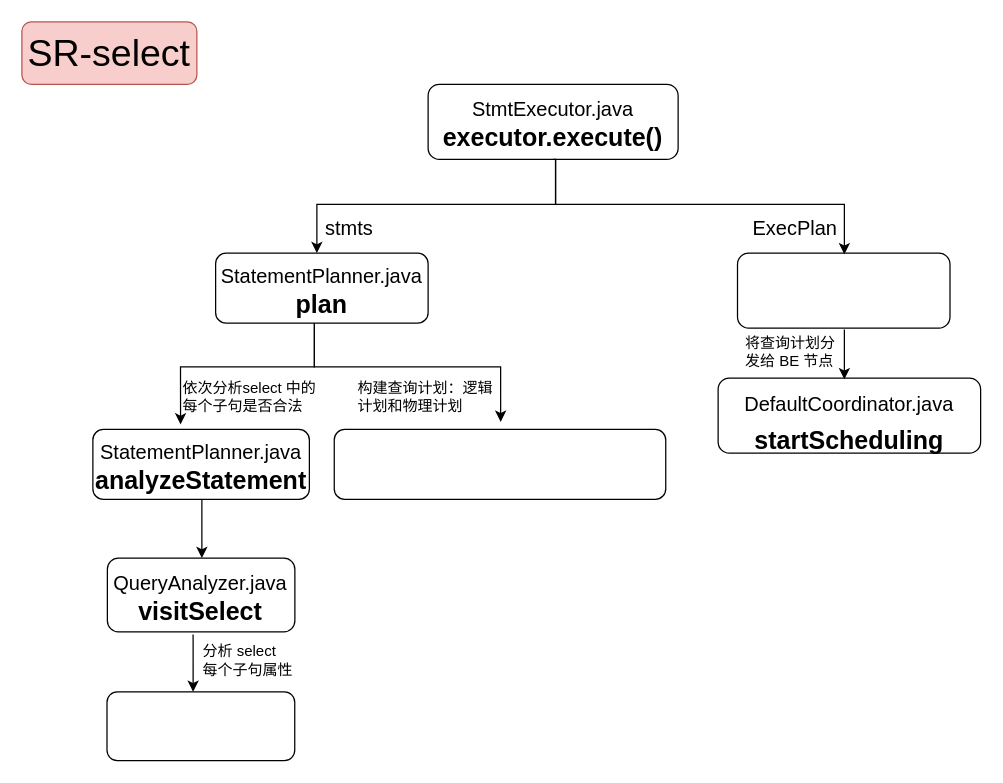
Some shapes in this 1003 by 783 pixel diagram are drawn without their labels. Here are the shapes that lost their labels. From the top down, the centre of each, then its label:
the point at 843,290: StmtExecutor.java handleDdlStmt
the point at 499,463: StatementPlanner.java createQueryPlanWithReTry
the point at 200,726: SelectAnalyzer.java analyze
